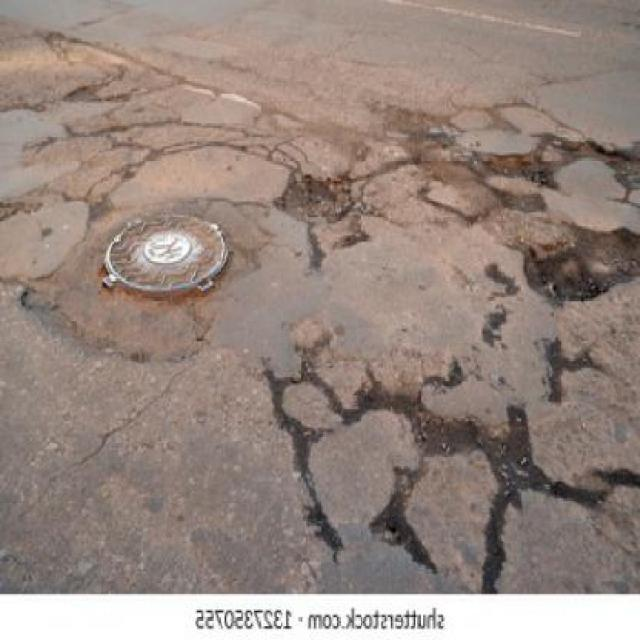Pothole: (491, 206, 640, 302), (275, 165, 358, 221)
